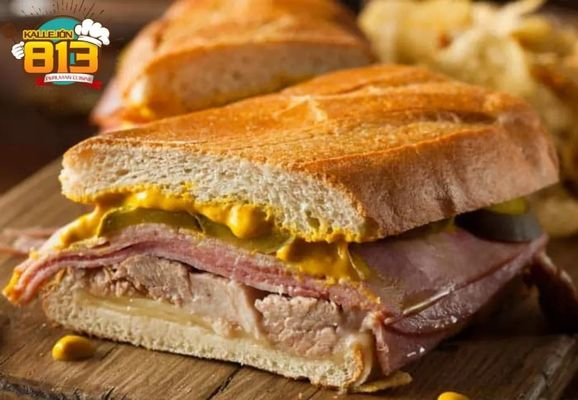soup: (21, 62, 575, 386), (88, 2, 373, 133)
